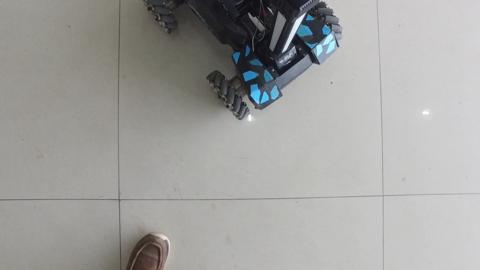chariot: (145, 4, 334, 117)
